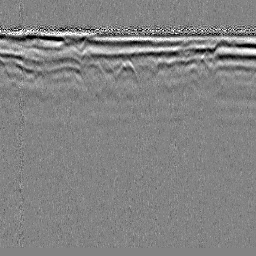cavity: (114, 58, 138, 81)
